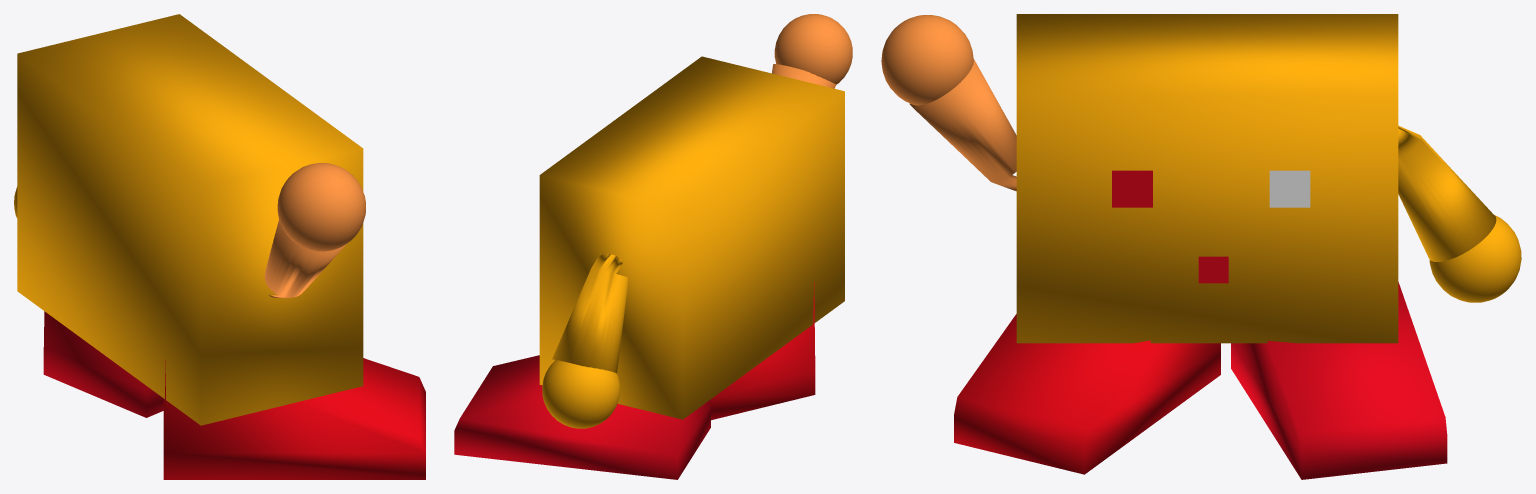
The model's file is bearkun.glb.
The picture shows the model from 3 angles, left to right: view 1: azimuth 30°, elevation 25°; view 2: azimuth 150°, elevation 25°; view 3: azimuth 270°, elevation 25°; orthographic projection. The views are drawn at different scales.
Visible parts, largest first — view 1: leftarm; view 2: leftarm; view 3: leftarm.
Boxes of the visible parts, x1,y1,x2,y2 form: leftarm: [14, 14, 425, 479]; leftarm: [454, 14, 852, 479]; leftarm: [881, 14, 1521, 479].
Bounding box in the file's own units: 2.38 × 2.95 × 4.7.
